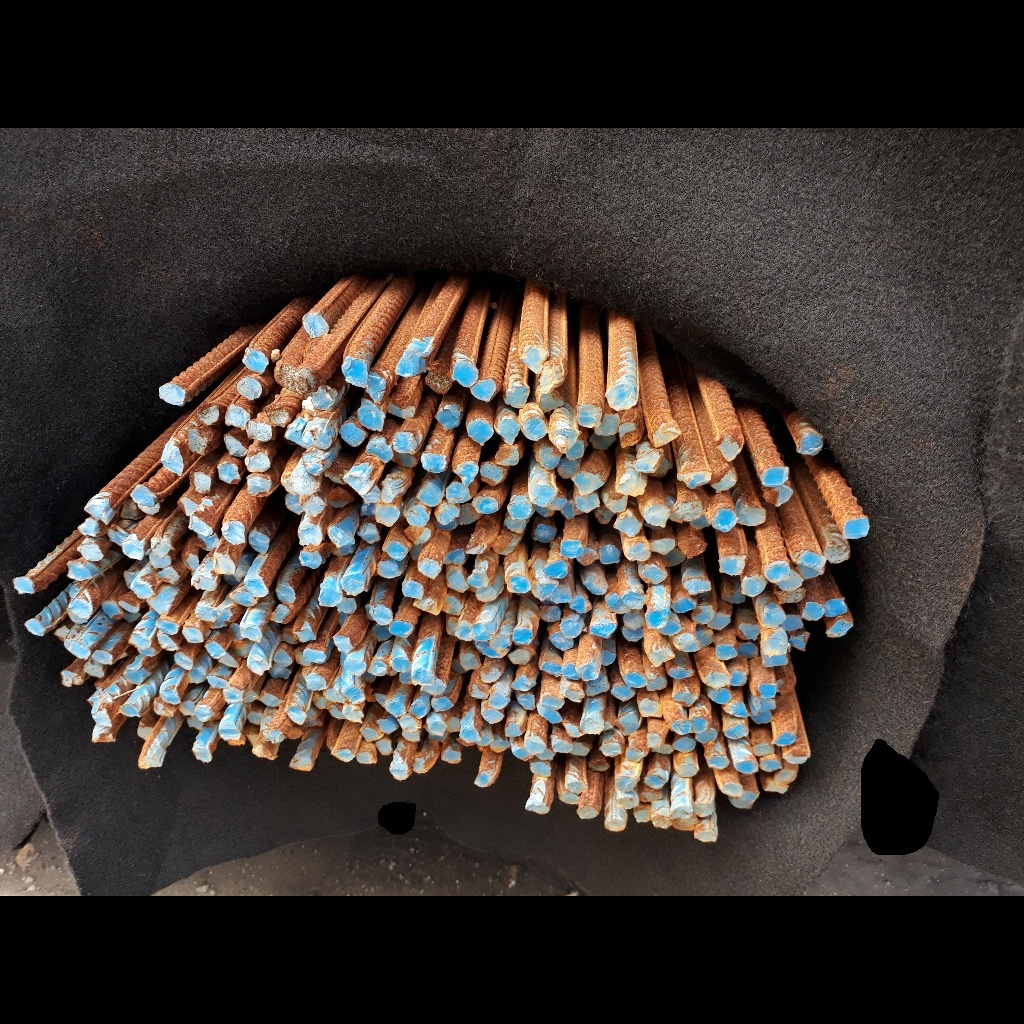dipstick: (301, 446, 338, 477), (468, 516, 496, 555), (301, 419, 337, 449), (354, 398, 386, 431), (146, 583, 179, 615), (424, 361, 454, 396), (760, 636, 791, 669), (489, 529, 525, 557), (345, 462, 375, 495), (649, 420, 682, 449), (283, 416, 312, 449), (342, 357, 371, 389), (606, 380, 637, 409), (757, 601, 788, 630), (519, 411, 548, 442), (794, 549, 828, 575), (365, 434, 394, 464), (681, 566, 712, 594), (633, 448, 666, 474), (539, 359, 564, 393), (395, 350, 425, 378), (300, 312, 331, 339), (736, 498, 767, 525), (464, 418, 495, 445), (612, 510, 644, 536), (161, 442, 187, 474), (365, 369, 390, 402), (571, 470, 604, 495), (187, 424, 212, 457), (519, 345, 547, 374), (716, 432, 744, 461), (450, 457, 479, 485), (291, 470, 321, 497), (676, 469, 711, 492), (676, 535, 708, 560), (339, 420, 368, 447), (403, 498, 430, 527), (548, 428, 578, 454), (323, 458, 353, 484), (386, 394, 417, 419), (418, 450, 449, 475), (709, 466, 738, 492), (495, 415, 521, 444), (63, 636, 93, 661), (576, 402, 603, 429), (417, 477, 444, 504), (309, 384, 336, 411), (710, 507, 738, 533), (380, 475, 406, 503), (529, 481, 558, 506), (616, 473, 646, 497), (241, 349, 268, 375), (434, 406, 462, 431), (390, 429, 418, 454), (593, 413, 622, 437), (470, 379, 499, 403), (478, 461, 507, 485), (326, 522, 355, 546), (443, 564, 467, 593), (761, 466, 794, 487), (717, 554, 747, 577), (156, 384, 186, 407), (247, 645, 270, 675), (388, 751, 411, 781), (762, 485, 793, 507), (452, 360, 478, 386), (797, 431, 823, 457), (223, 432, 249, 458), (504, 384, 531, 409), (434, 498, 459, 525), (275, 364, 300, 391), (245, 473, 272, 498), (297, 520, 324, 545), (601, 488, 629, 512), (293, 367, 317, 395), (672, 500, 703, 521), (643, 504, 669, 529), (224, 404, 250, 429), (342, 571, 367, 597), (558, 613, 583, 639), (584, 671, 610, 696), (220, 520, 246, 545), (672, 805, 697, 831), (741, 574, 768, 598), (617, 421, 641, 448), (187, 470, 214, 494), (562, 517, 589, 541), (416, 556, 443, 580), (764, 561, 792, 584), (355, 520, 383, 543), (533, 391, 565, 411), (824, 616, 853, 638), (572, 491, 601, 513), (382, 538, 411, 560), (646, 643, 675, 665), (76, 539, 105, 561), (672, 633, 702, 654), (532, 577, 557, 602), (537, 443, 561, 469), (496, 444, 522, 468), (237, 377, 263, 401), (301, 492, 325, 518), (400, 577, 426, 601), (67, 598, 91, 624), (451, 652, 479, 674), (769, 586, 805, 603), (623, 540, 652, 561), (446, 482, 475, 503), (376, 557, 405, 578), (403, 522, 432, 543), (508, 496, 533, 520), (212, 551, 237, 575), (644, 766, 669, 790), (675, 753, 700, 777), (244, 575, 270, 598), (672, 685, 699, 707), (91, 700, 113, 727), (471, 494, 499, 515), (589, 619, 617, 640), (85, 503, 113, 524), (229, 585, 258, 605), (731, 789, 760, 809), (647, 538, 679, 556), (598, 542, 623, 565), (266, 406, 292, 428), (466, 566, 492, 588), (188, 514, 214, 536), (152, 695, 178, 717), (297, 548, 324, 569), (325, 676, 346, 703), (614, 771, 641, 792), (196, 402, 220, 425), (646, 606, 669, 630), (285, 704, 309, 727), (455, 502, 480, 524), (641, 564, 666, 586), (584, 574, 609, 596), (844, 518, 870, 539), (507, 575, 533, 596), (611, 681, 637, 702), (249, 528, 270, 554), (92, 724, 118, 745), (825, 543, 852, 563), (559, 538, 586, 558), (542, 560, 569, 580), (549, 629, 576, 649), (559, 683, 586, 703), (66, 560, 93, 580), (503, 516, 531, 535), (549, 582, 572, 605), (426, 712, 449, 735), (824, 596, 848, 618), (217, 462, 241, 484), (82, 657, 106, 679), (155, 630, 179, 652), (531, 523, 556, 544), (738, 620, 763, 641), (130, 483, 155, 504), (194, 530, 219, 551), (117, 592, 142, 613), (270, 603, 295, 624), (290, 751, 315, 772), (342, 682, 367, 703), (376, 713, 401, 734), (413, 597, 442, 615), (557, 457, 583, 477), (690, 604, 716, 624), (638, 698, 664, 718), (187, 659, 207, 685), (262, 725, 288, 745), (537, 706, 564, 725), (341, 702, 364, 724), (384, 695, 406, 718), (659, 548, 687, 566), (569, 594, 593, 615), (129, 580, 157, 598), (723, 721, 751, 739), (592, 501, 612, 526), (245, 452, 270, 472), (606, 593, 631, 613), (218, 721, 243, 741), (794, 565, 827, 580), (291, 624, 317, 643), (615, 790, 641, 809), (326, 488, 355, 505), (135, 754, 164, 771), (620, 590, 647, 608), (706, 687, 733, 705), (190, 572, 217, 590), (251, 742, 278, 760), (659, 613, 681, 635), (275, 582, 297, 604), (538, 602, 561, 623), (370, 604, 393, 625), (122, 539, 145, 560), (149, 548, 172, 569), (160, 684, 183, 705), (246, 421, 270, 441), (749, 697, 779, 713), (721, 701, 751, 717), (11, 575, 35, 595), (128, 631, 152, 651), (238, 621, 262, 641), (522, 735, 546, 755), (551, 733, 575, 753), (622, 671, 647, 690), (399, 713, 424, 732), (671, 595, 697, 613), (706, 612, 732, 630), (191, 745, 217, 763), (259, 690, 285, 708), (579, 716, 605, 734), (603, 814, 629, 832), (419, 679, 448, 695), (802, 601, 824, 622), (645, 670, 667, 691), (101, 599, 123, 620), (409, 698, 431, 719), (651, 809, 673, 830), (283, 493, 303, 516), (577, 662, 600, 682), (332, 633, 355, 653), (388, 621, 415, 638), (214, 606, 241, 623), (525, 798, 552, 815), (576, 547, 600, 566), (714, 642, 739, 660), (318, 588, 343, 606), (430, 695, 455, 713), (703, 671, 731, 687), (783, 747, 811, 763), (441, 547, 467, 564), (508, 648, 534, 665), (443, 594, 464, 615), (560, 717, 581, 738), (623, 611, 645, 631), (514, 691, 536, 711), (602, 737, 624, 757), (539, 659, 562, 678), (344, 658, 367, 677), (182, 626, 205, 645), (631, 803, 654, 822), (668, 664, 695, 680), (23, 618, 47, 636), (773, 766, 797, 784), (718, 780, 743, 797), (737, 639, 758, 659), (177, 496, 198, 516), (473, 622, 494, 642), (150, 538, 170, 559), (173, 650, 194, 670), (769, 732, 797, 747), (788, 633, 811, 651), (304, 673, 327, 691), (91, 648, 114, 666), (588, 754, 611, 772), (60, 669, 84, 686), (458, 727, 482, 744), (509, 674, 534, 690), (293, 646, 313, 666), (375, 736, 395, 756), (480, 707, 505, 723), (564, 441, 585, 460), (78, 518, 99, 537), (195, 603, 216, 622), (475, 585, 497, 603), (204, 641, 226, 659), (361, 725, 383, 743), (412, 752, 429, 775), (487, 693, 510, 710), (540, 694, 566, 709), (412, 670, 438, 685), (620, 626, 644, 642), (156, 619, 180, 635), (205, 673, 229, 689), (331, 748, 355, 764), (478, 665, 502, 681), (764, 778, 788, 794), (124, 666, 143, 686), (327, 701, 347, 720), (358, 499, 379, 517), (513, 626, 534, 644), (336, 597, 357, 615), (569, 739, 590, 757), (222, 686, 244, 703), (673, 735, 695, 752), (709, 754, 731, 771), (641, 785, 664, 801), (696, 827, 719, 843), (694, 628, 713, 647), (194, 703, 213, 722), (456, 621, 474, 641), (400, 729, 424, 744), (490, 735, 510, 753), (689, 715, 709, 733), (754, 741, 778, 756), (776, 677, 797, 694), (368, 659, 389, 676), (444, 716, 465, 733), (467, 683, 488, 700), (783, 614, 805, 630), (391, 656, 413, 672), (442, 750, 464, 766), (753, 684, 778, 698), (302, 648, 327, 662), (119, 703, 142, 718), (531, 762, 554, 777), (577, 804, 600, 819), (473, 770, 491, 789), (310, 691, 329, 709), (644, 731, 662, 750), (670, 716, 689, 734), (625, 747, 645, 764), (135, 502, 161, 515), (749, 710, 775, 723), (560, 792, 584, 806), (696, 728, 717, 744), (737, 759, 758, 775), (275, 649, 293, 667), (729, 669, 746, 688), (562, 664, 581, 681), (373, 690, 390, 709), (475, 730, 494, 747), (444, 615, 460, 635), (123, 569, 139, 589), (504, 722, 524, 738), (535, 746, 557, 760), (285, 724, 304, 740), (762, 756, 781, 772), (356, 750, 376, 765), (183, 553, 200, 570), (53, 625, 70, 642), (178, 700, 196, 716), (136, 726, 157, 739), (567, 780, 588, 793), (601, 649, 617, 666), (399, 669, 415, 686), (247, 709, 263, 724), (245, 688, 259, 704), (695, 803, 713, 815)
